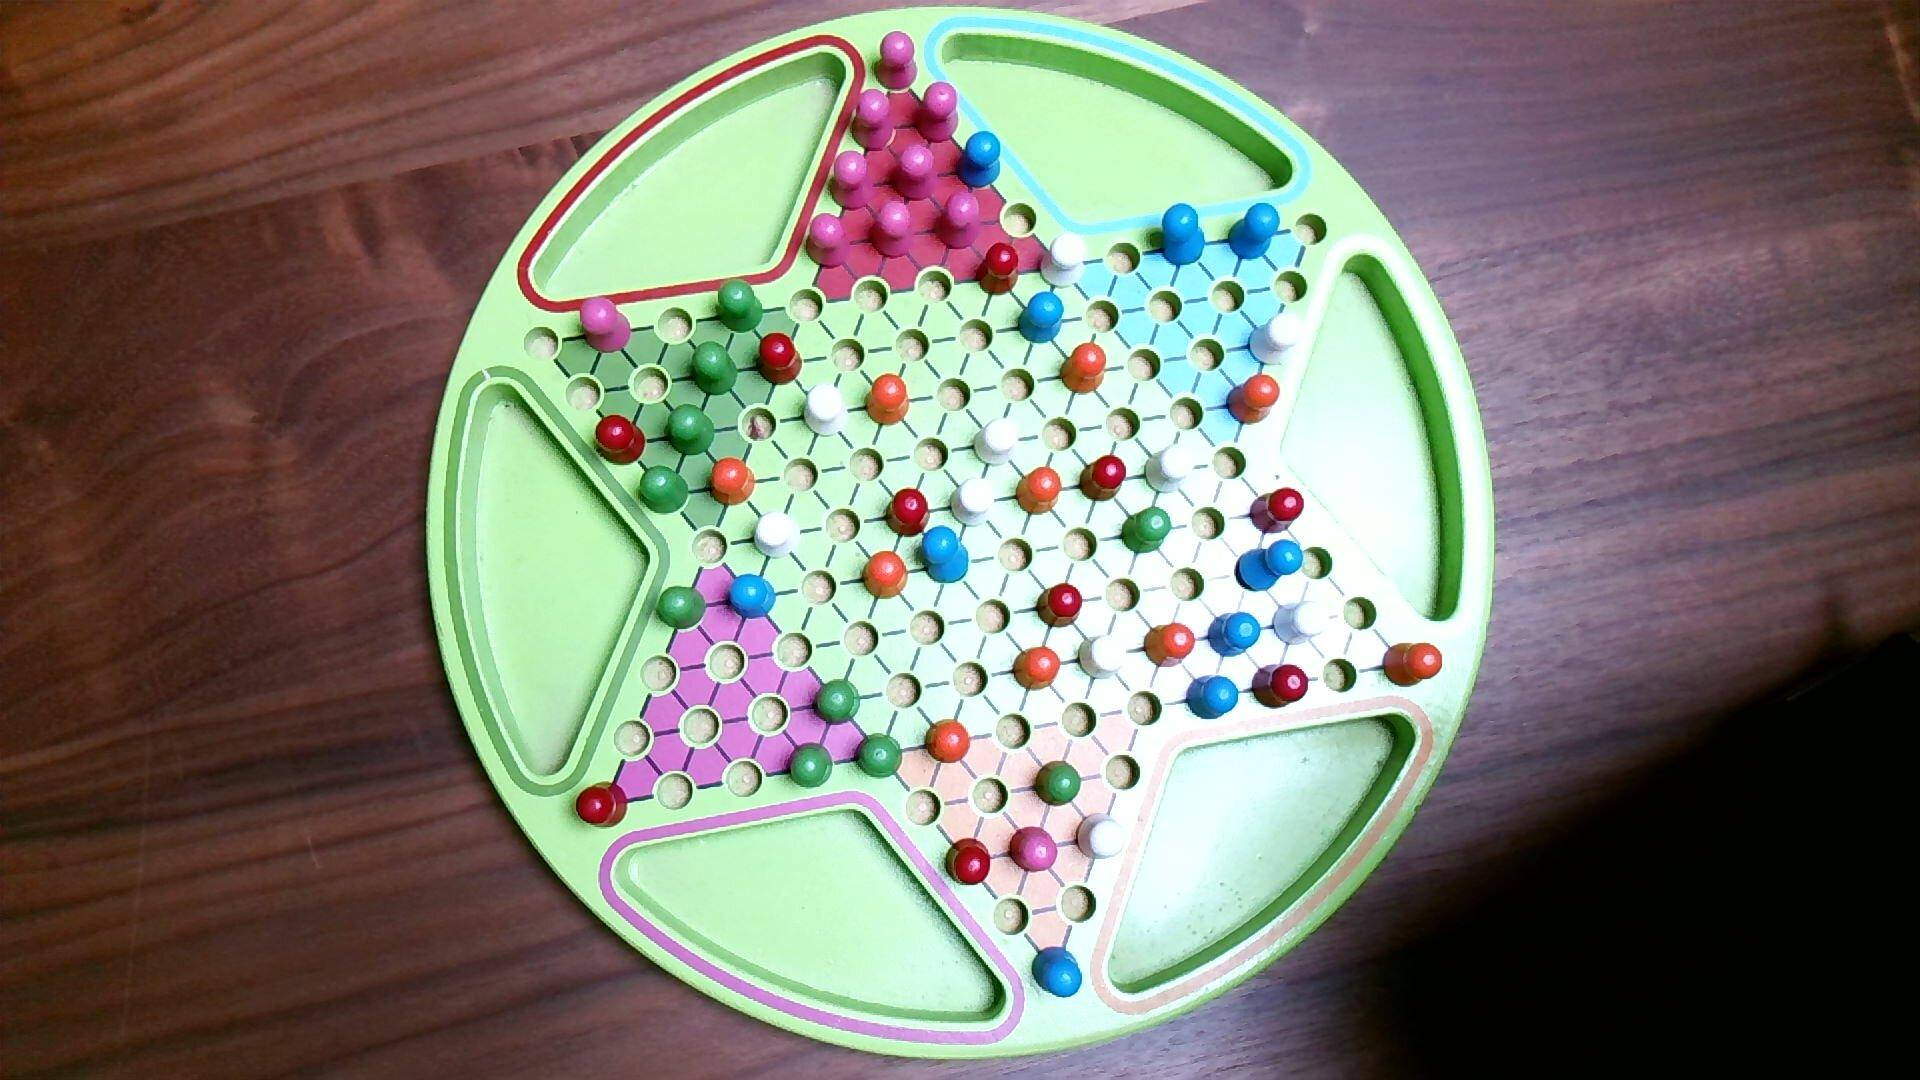B: (1236, 541, 1305, 593), (1226, 200, 1283, 262), (1160, 200, 1208, 269), (920, 525, 971, 585), (955, 131, 1004, 191), (1031, 945, 1085, 1000), (1184, 673, 1240, 723), (1207, 611, 1263, 659), (727, 572, 779, 620), (1019, 291, 1065, 345)
G: (665, 402, 717, 459), (716, 277, 767, 335), (638, 464, 692, 516), (690, 342, 740, 397), (1121, 506, 1174, 556), (655, 584, 709, 633), (855, 731, 905, 781), (814, 676, 862, 725), (1034, 760, 1083, 808), (787, 742, 835, 790)
O: (1381, 640, 1447, 688), (1226, 372, 1282, 429), (865, 371, 913, 429), (861, 549, 911, 603), (1060, 340, 1109, 396), (1142, 622, 1197, 670), (1011, 645, 1063, 694), (709, 458, 758, 508), (924, 717, 975, 766), (1015, 465, 1063, 517)
R: (574, 779, 632, 832), (593, 413, 649, 467), (1251, 662, 1309, 711), (756, 331, 804, 388), (1250, 487, 1305, 535), (1077, 454, 1130, 504), (975, 241, 1021, 298), (885, 487, 934, 539), (944, 836, 993, 887), (1036, 580, 1085, 630)
R2: (578, 295, 634, 356), (914, 80, 963, 145), (827, 149, 876, 212), (891, 142, 942, 203), (873, 28, 920, 91), (934, 190, 982, 251), (851, 88, 895, 152), (869, 202, 916, 260), (804, 214, 852, 270), (1007, 825, 1060, 874)
W: (1247, 311, 1305, 368), (1040, 232, 1091, 291), (1273, 597, 1329, 647), (802, 382, 851, 438), (1145, 443, 1195, 496), (1077, 633, 1130, 683), (753, 509, 803, 560), (1077, 811, 1127, 862), (949, 476, 997, 527), (973, 415, 1021, 467)
